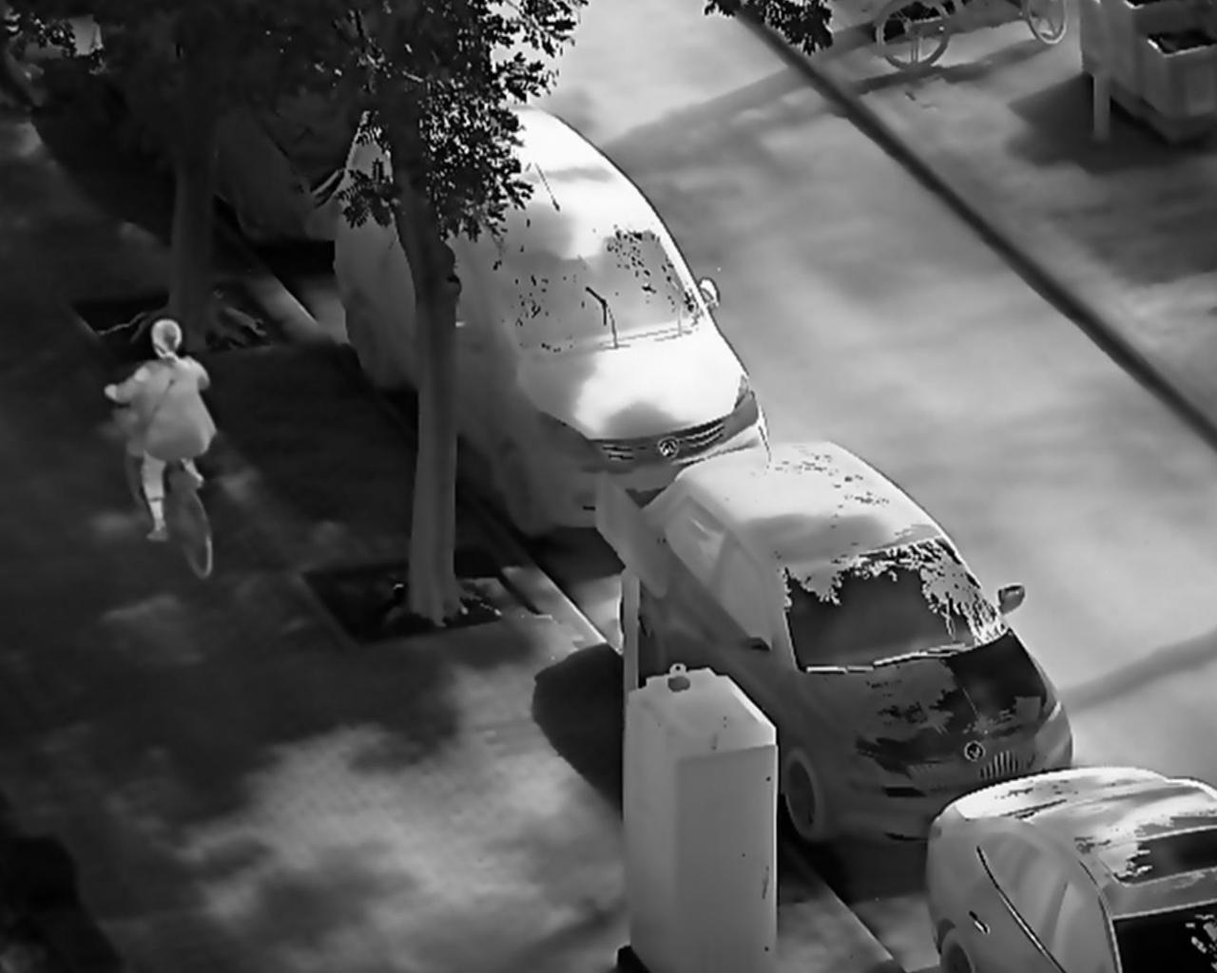person: (99, 315, 223, 546)
